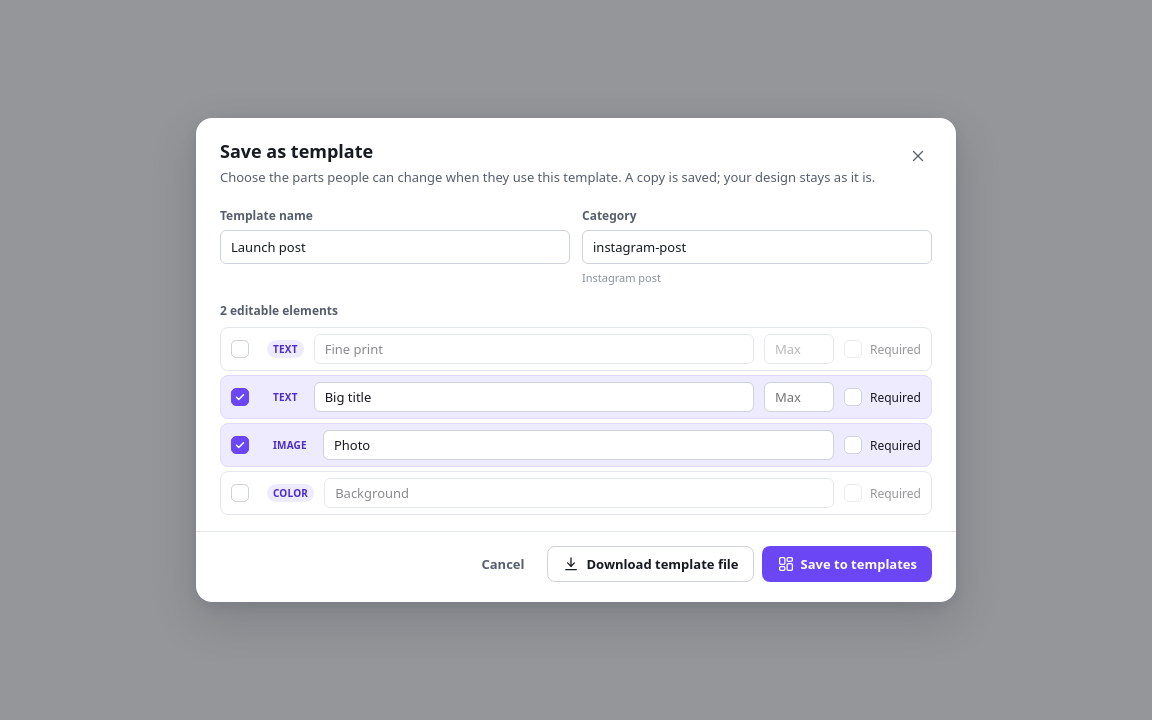
Test: SaveAsTemplateDialog › defaults to persistence.saveAsTemplate and shows errors inline
The width and height of the screenshot is (1152, 720).
Click the button "Save to templates".
click(847, 564)  # box [762,546,932,582]
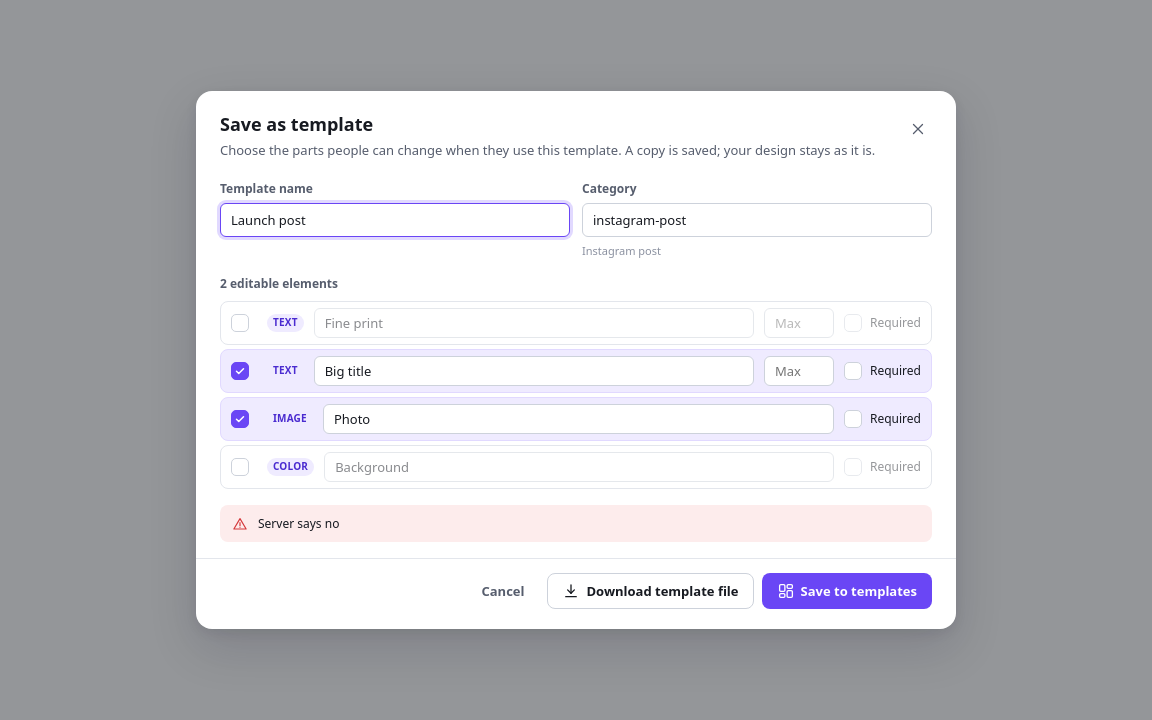
Check: the text "Server says no" is shown, box [258,515,339,532]
